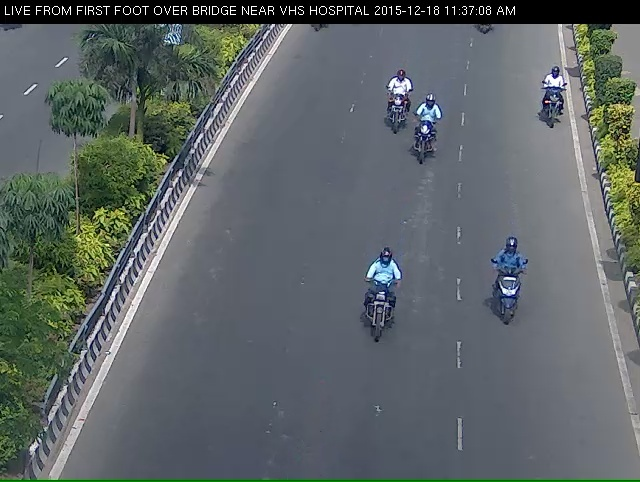Person: (346, 270, 410, 375), (493, 245, 542, 360), (541, 55, 575, 142), (369, 79, 405, 149), (413, 106, 442, 174)
